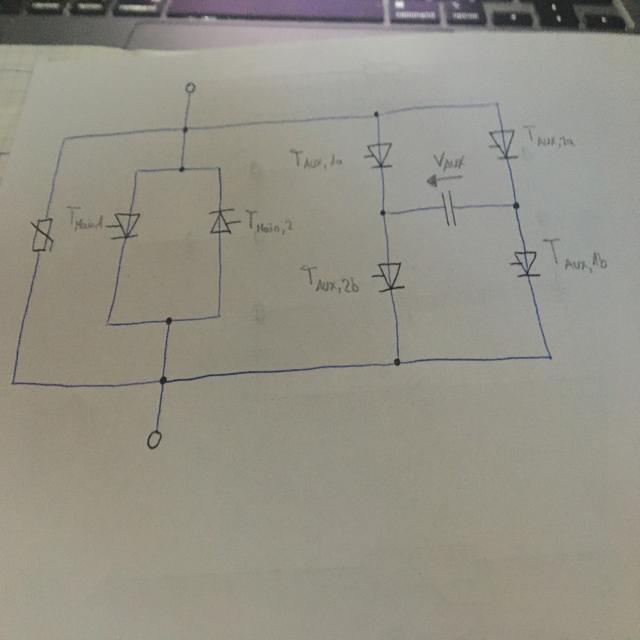capacitor: (440, 188, 458, 227)
junction: (392, 356, 402, 368), (378, 207, 388, 218), (372, 108, 382, 118), (511, 200, 521, 210), (132, 166, 142, 176), (60, 134, 69, 145), (158, 375, 167, 386), (180, 124, 189, 134), (104, 317, 112, 328), (164, 315, 172, 326), (8, 378, 16, 388), (177, 164, 185, 173), (546, 352, 554, 361), (215, 310, 222, 319), (493, 99, 500, 107), (216, 164, 222, 172)
terminal: (145, 427, 162, 450), (184, 80, 195, 94)
text: (541, 234, 608, 275), (298, 261, 361, 296), (243, 206, 294, 238), (519, 121, 576, 149), (286, 146, 344, 172), (64, 202, 104, 234), (431, 149, 466, 172)
thyristor: (488, 128, 519, 160), (376, 260, 405, 293), (110, 211, 141, 241), (207, 206, 235, 235), (512, 249, 540, 278), (366, 141, 394, 169)
